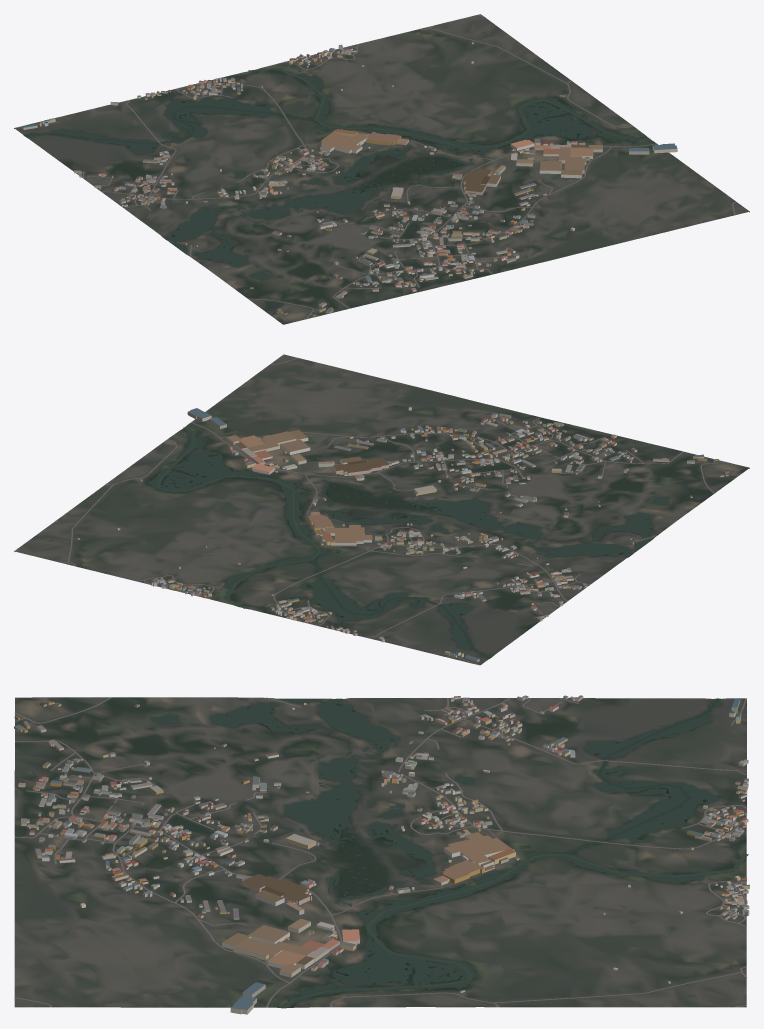
3 renders of one model, top to bottom at view 1: azimuth 30°, elevation 25°; view 2: azimuth 150°, elevation 25°; view 3: azimuth 270°, elevation 25°, orthographic. The views are drawn at different scales.
Parts seen in each view (by area): view 1: ground, buildings, water, roads; view 2: ground, buildings, water, roads; view 3: ground, buildings, water, roads.
Part boxes in pixels (x1,y1,x2,y2): ground: [14, 14, 749, 324]; buildings: [22, 42, 677, 317]; water: [24, 39, 667, 281]; roads: [14, 14, 736, 319]; ground: [14, 354, 749, 664]; buildings: [77, 407, 729, 662]; water: [83, 419, 670, 658]; roads: [16, 357, 726, 665]; ground: [14, 697, 746, 1008]; buildings: [14, 695, 749, 1014]; water: [150, 698, 748, 1007]; roads: [14, 697, 747, 1007].
Bounding box in the file's own units: 1436 × 15.44 × 1409.
